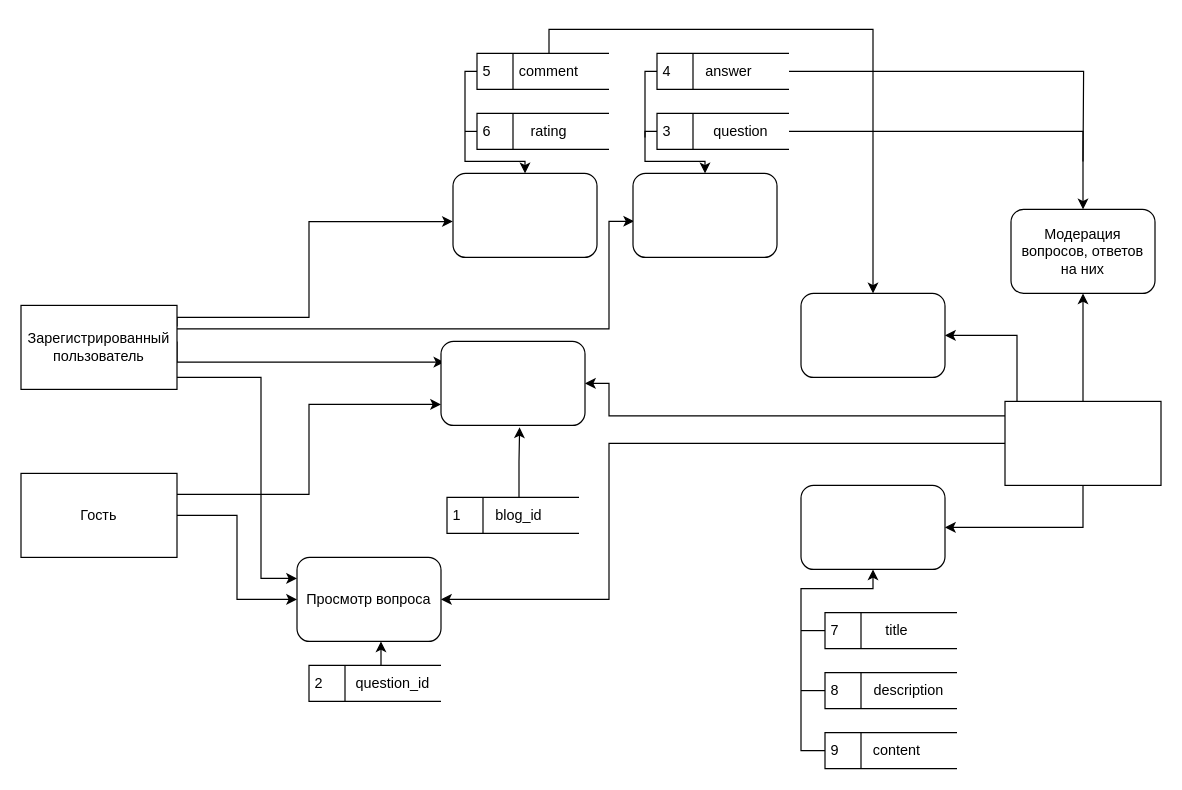
The diagram is 1182 pixels wide and 790 high, and some of its shapes have lost their labels. Here are the shapes that lost their labels. From the top down, the centre of each, then its label:
At (x=524, y=214): "Добавление комментария и оценки".
At (x=704, y=214): "Создание вопроса, ответа на него".
At (x=872, y=334): "Модерация комментариев в блоге".
At (x=512, y=382): "Просмотр блогов".
At (x=1082, y=442): "Админимтратор".
At (x=872, y=526): "Создание, редактирование, удаление блога".
